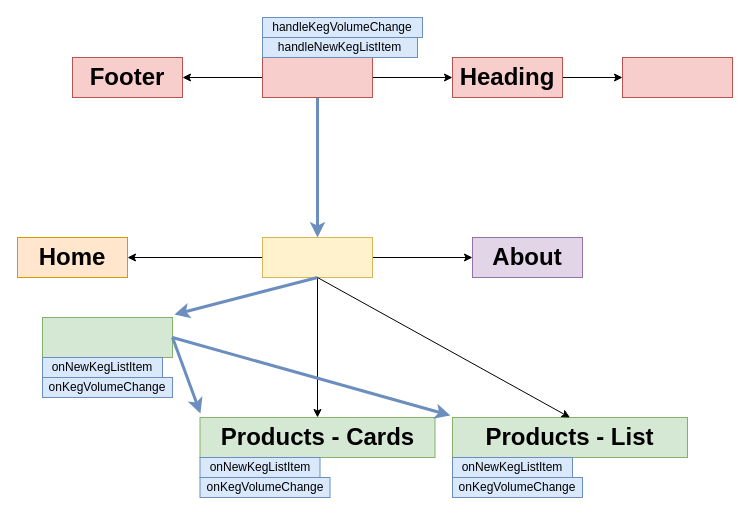
Image size: 750x515. Some labels were removed from this diagram. Each missing label, with the centre of its shape:
"Admin" belongs at point (107, 337).
"App Contains" belongs at point (317, 77).
"Navbar" belongs at point (677, 77).
"Routes" belongs at point (317, 257).
